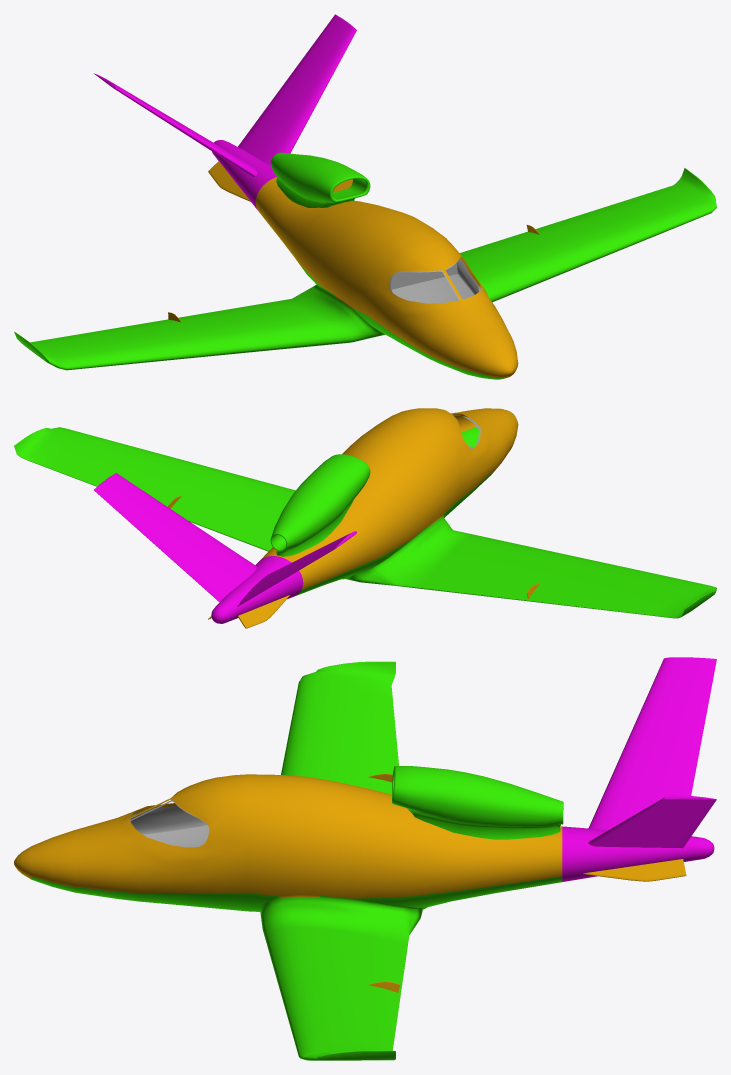
3 renders of one model, top to bottom at view 1: azimuth 30°, elevation 25°; view 2: azimuth 150°, elevation 25°; view 3: azimuth 270°, elevation 25°, orthographic. The views are drawn at different scales.
Visible parts, largest first — view 1: polySurface192; view 2: polySurface192; view 3: polySurface192.
Part boxes in pixels (box(x1,y1,x2,y2)): polySurface192: box(14, 14, 716, 379); polySurface192: box(14, 408, 716, 628); polySurface192: box(14, 657, 716, 1060).
Bounding box in the file's own units: 528 × 116 × 403.
